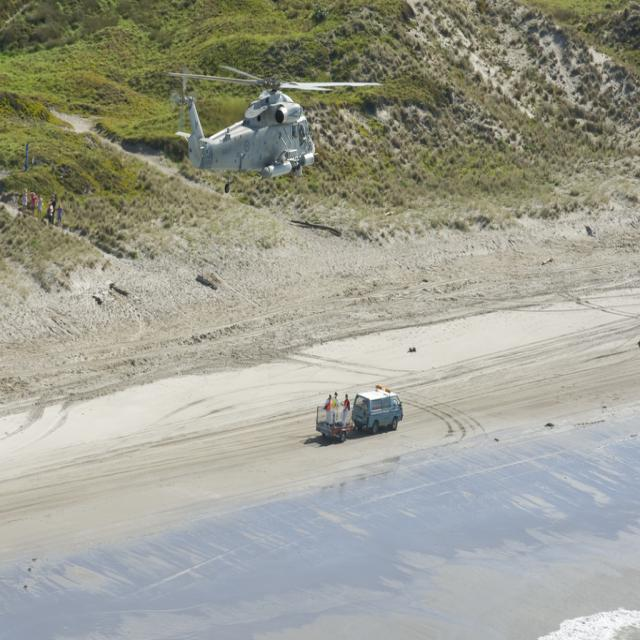car: (330, 384, 406, 440)
